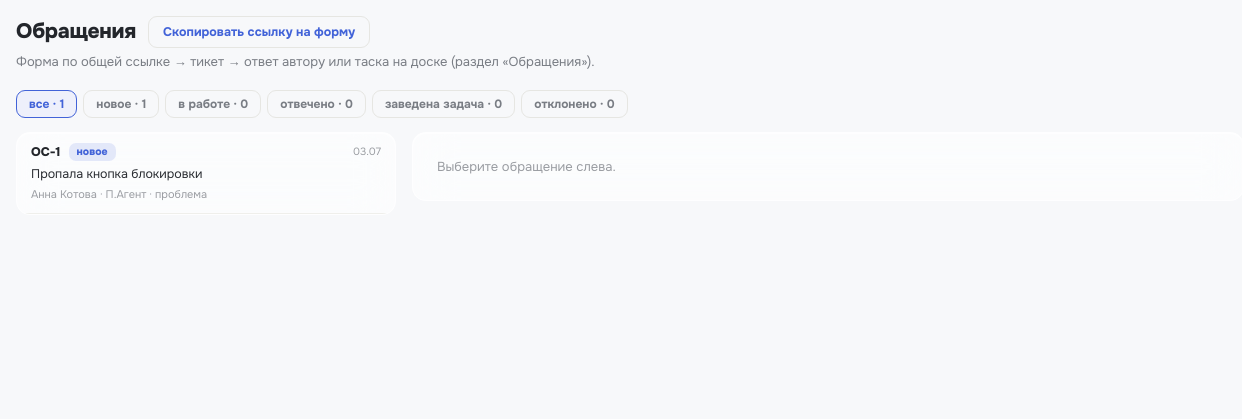
Scenario: TicketsScreen (штабной инбокс) › «Создать таску» зовёт to-task и показывает чип с id таски
Click the text "ОС-1". click: (46, 152)
box: [31,142,61,161]
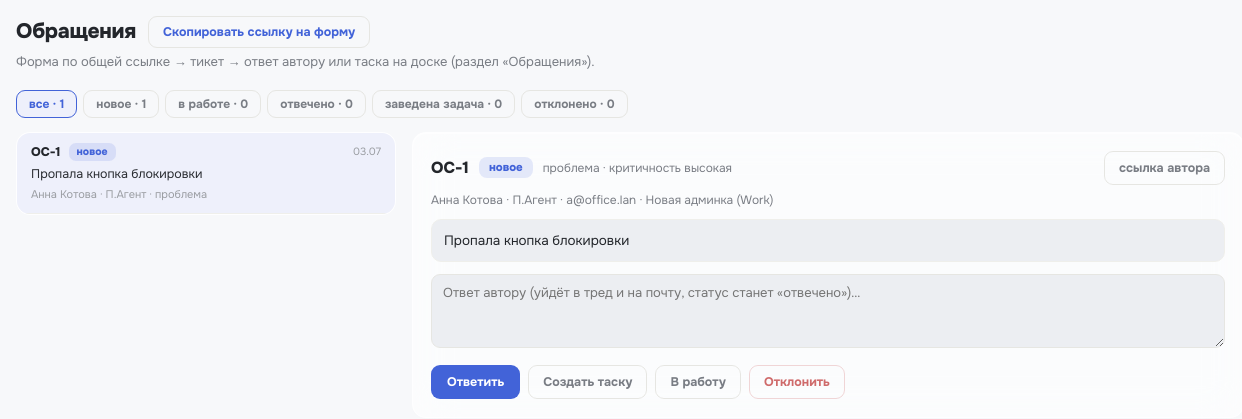
Click the button "Создать таску". click: (588, 382)
box: [528,365,647,399]
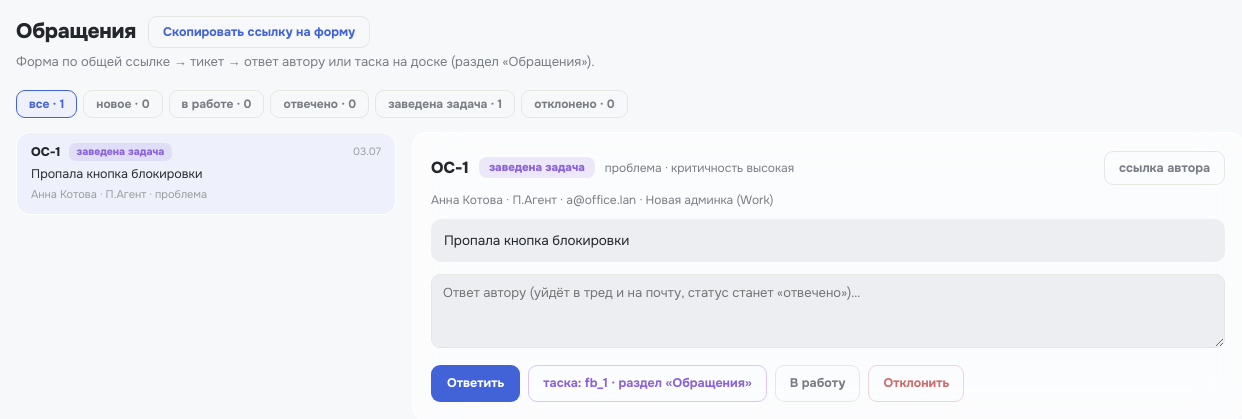
Check: the text "таска: fb_1 · раздел «Обращения»" is shown, box [528,365,767,402]
